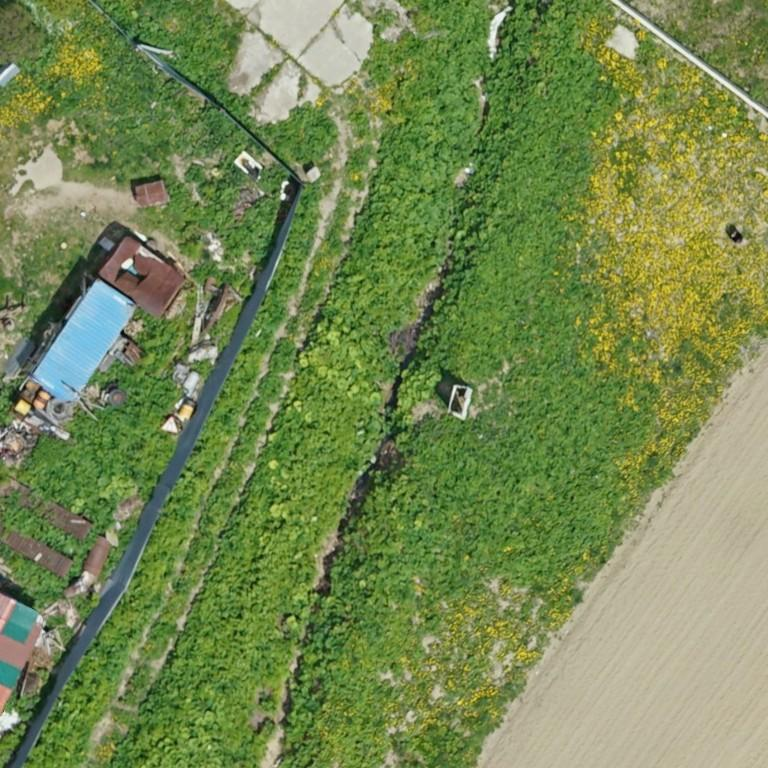hogweed: (283, 0, 642, 767), (25, 186, 323, 767), (112, 368, 368, 767), (321, 0, 489, 375), (151, 339, 296, 646), (21, 313, 178, 532), (132, 15, 337, 163), (166, 167, 285, 261), (94, 23, 194, 118), (0, 499, 94, 578), (0, 542, 66, 604), (202, 105, 259, 155), (193, 265, 246, 287), (184, 165, 205, 183)
